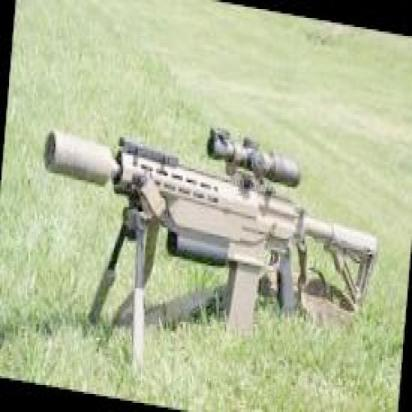Gun: (47, 136, 368, 304)
